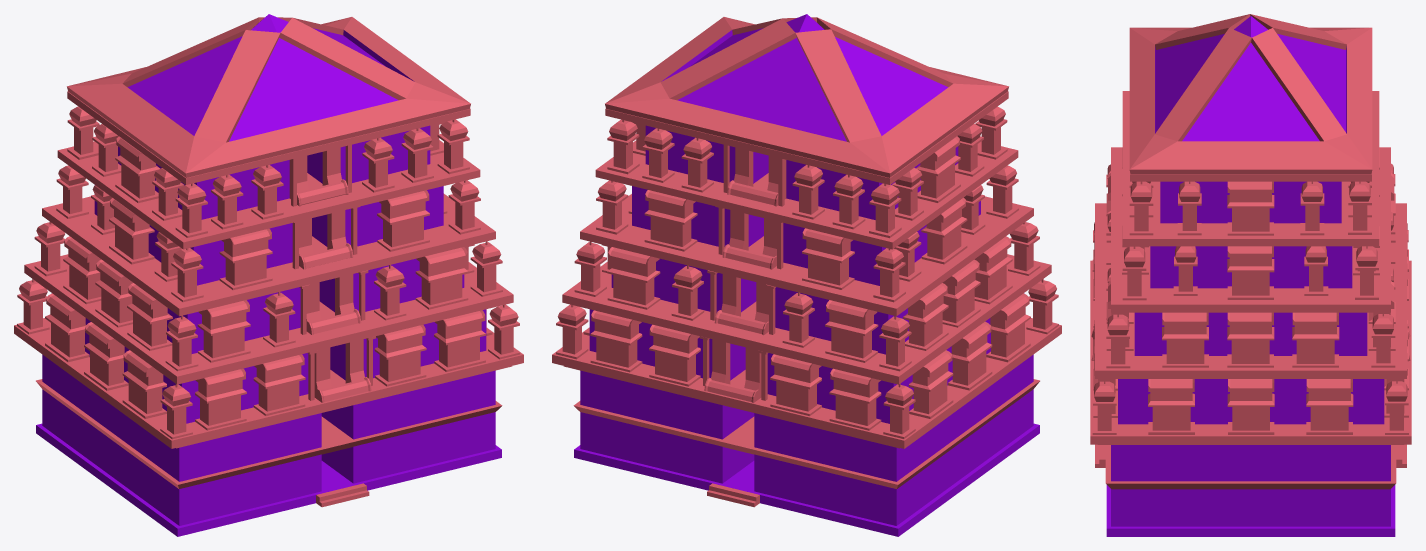
The model's file is decoration-tower-egypt.fbx.
The picture shows the model from 3 angles, left to right: view 1: azimuth 30°, elevation 25°; view 2: azimuth 150°, elevation 25°; view 3: azimuth 270°, elevation 25°; orthographic projection. The views are drawn at different scales.
Parts seen in each view (by area): view 1: decoration-tower-egypt; view 2: decoration-tower-egypt; view 3: decoration-tower-egypt.
Part boxes in pixels (left/top/right/bottom): decoration-tower-egypt: left=14, top=14, right=523, bottom=536; decoration-tower-egypt: left=552, top=14, right=1061, bottom=536; decoration-tower-egypt: left=1090, top=14, right=1411, bottom=536.
Bounding box in the file's own units: 17.82 × 20.85 × 13.8.
